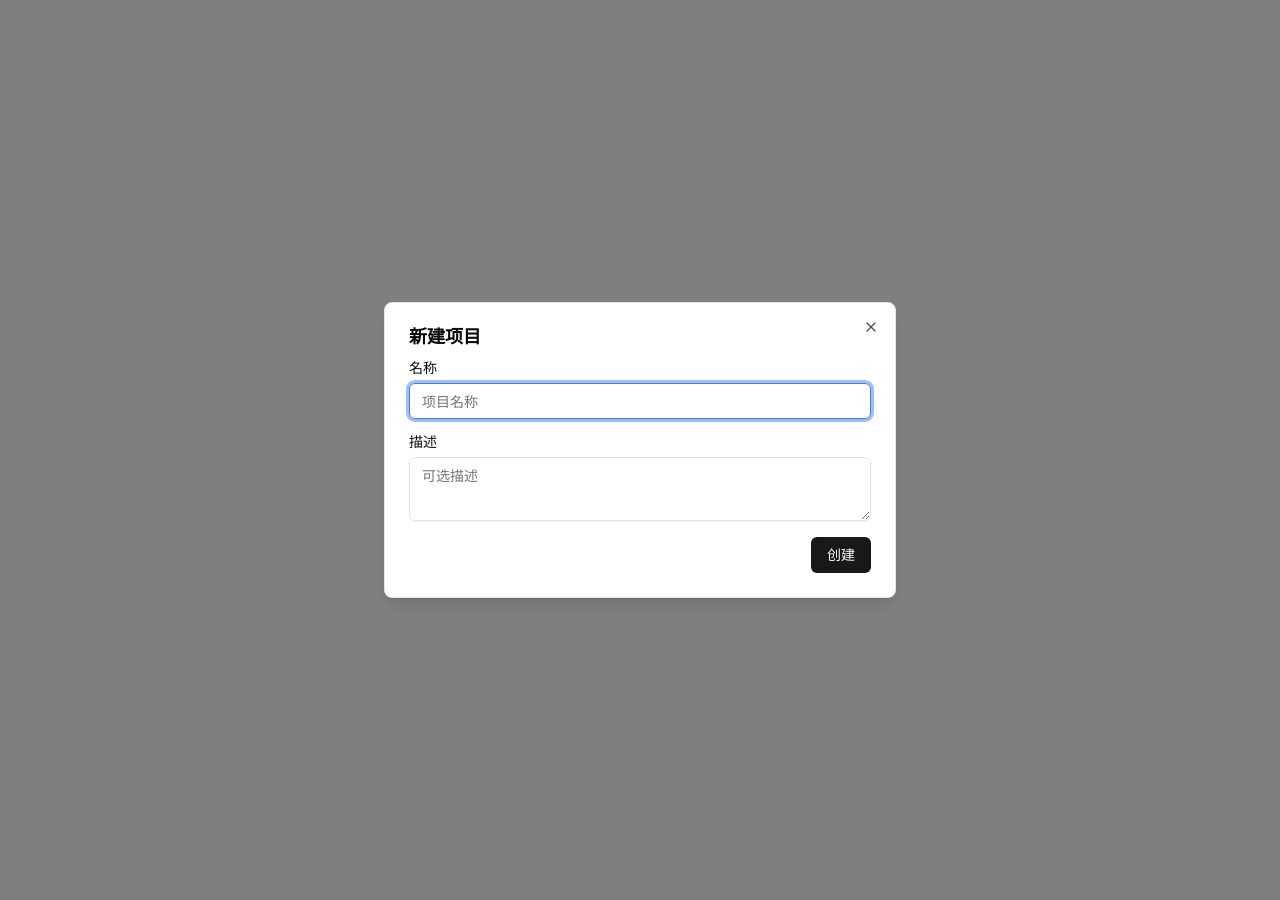
Test case: CreateProjectDialog › validates that name is required
Click the button "创建": (841, 555) x1=811 y1=537 x2=871 y2=573
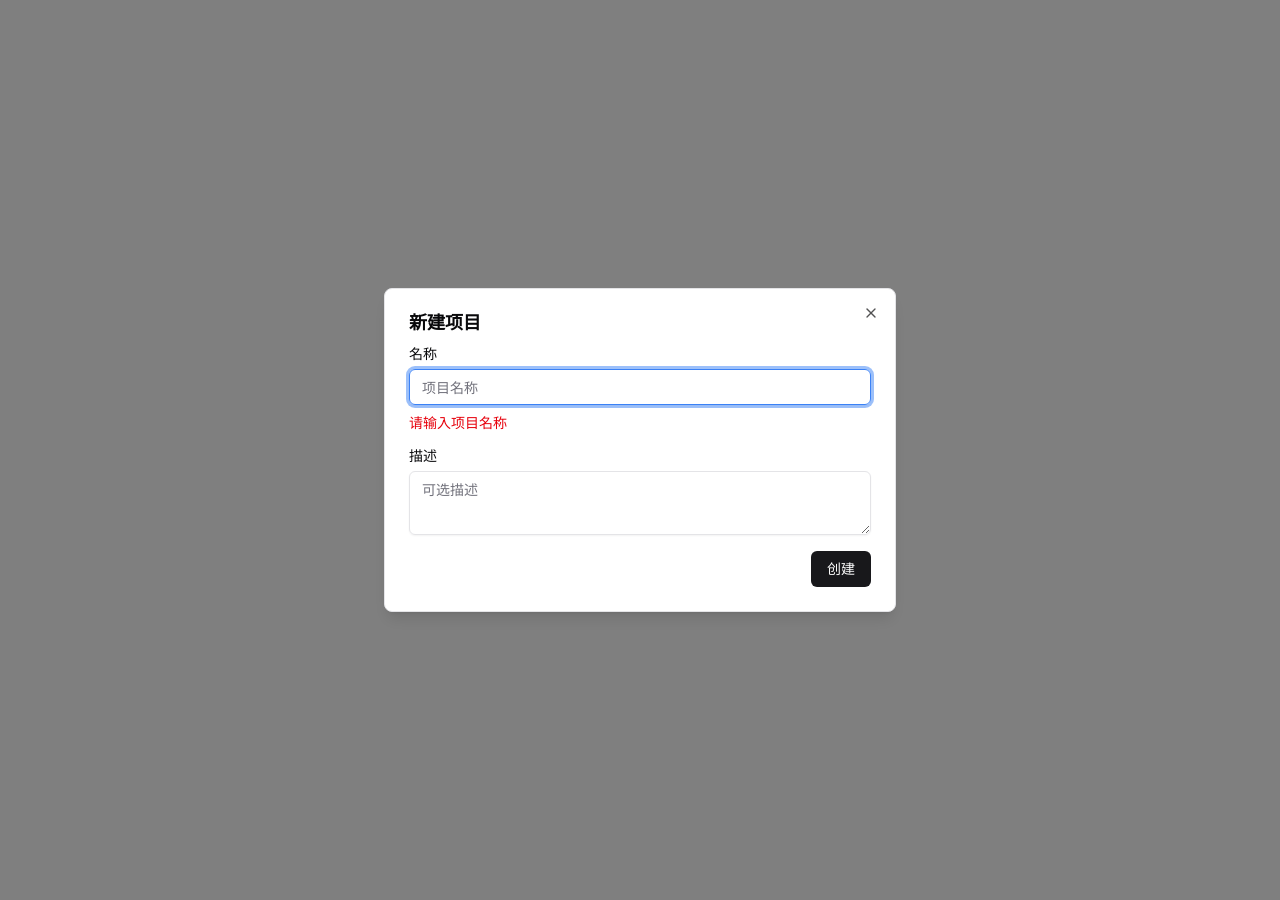
Expected: the text "请输入项目名称" is shown, x1=409 y1=413 x2=507 y2=432
